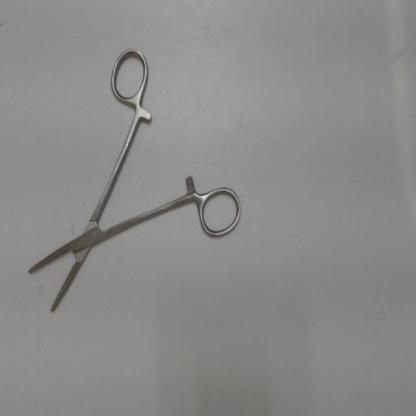Mayo Needle Holder: (16, 40, 248, 326)
